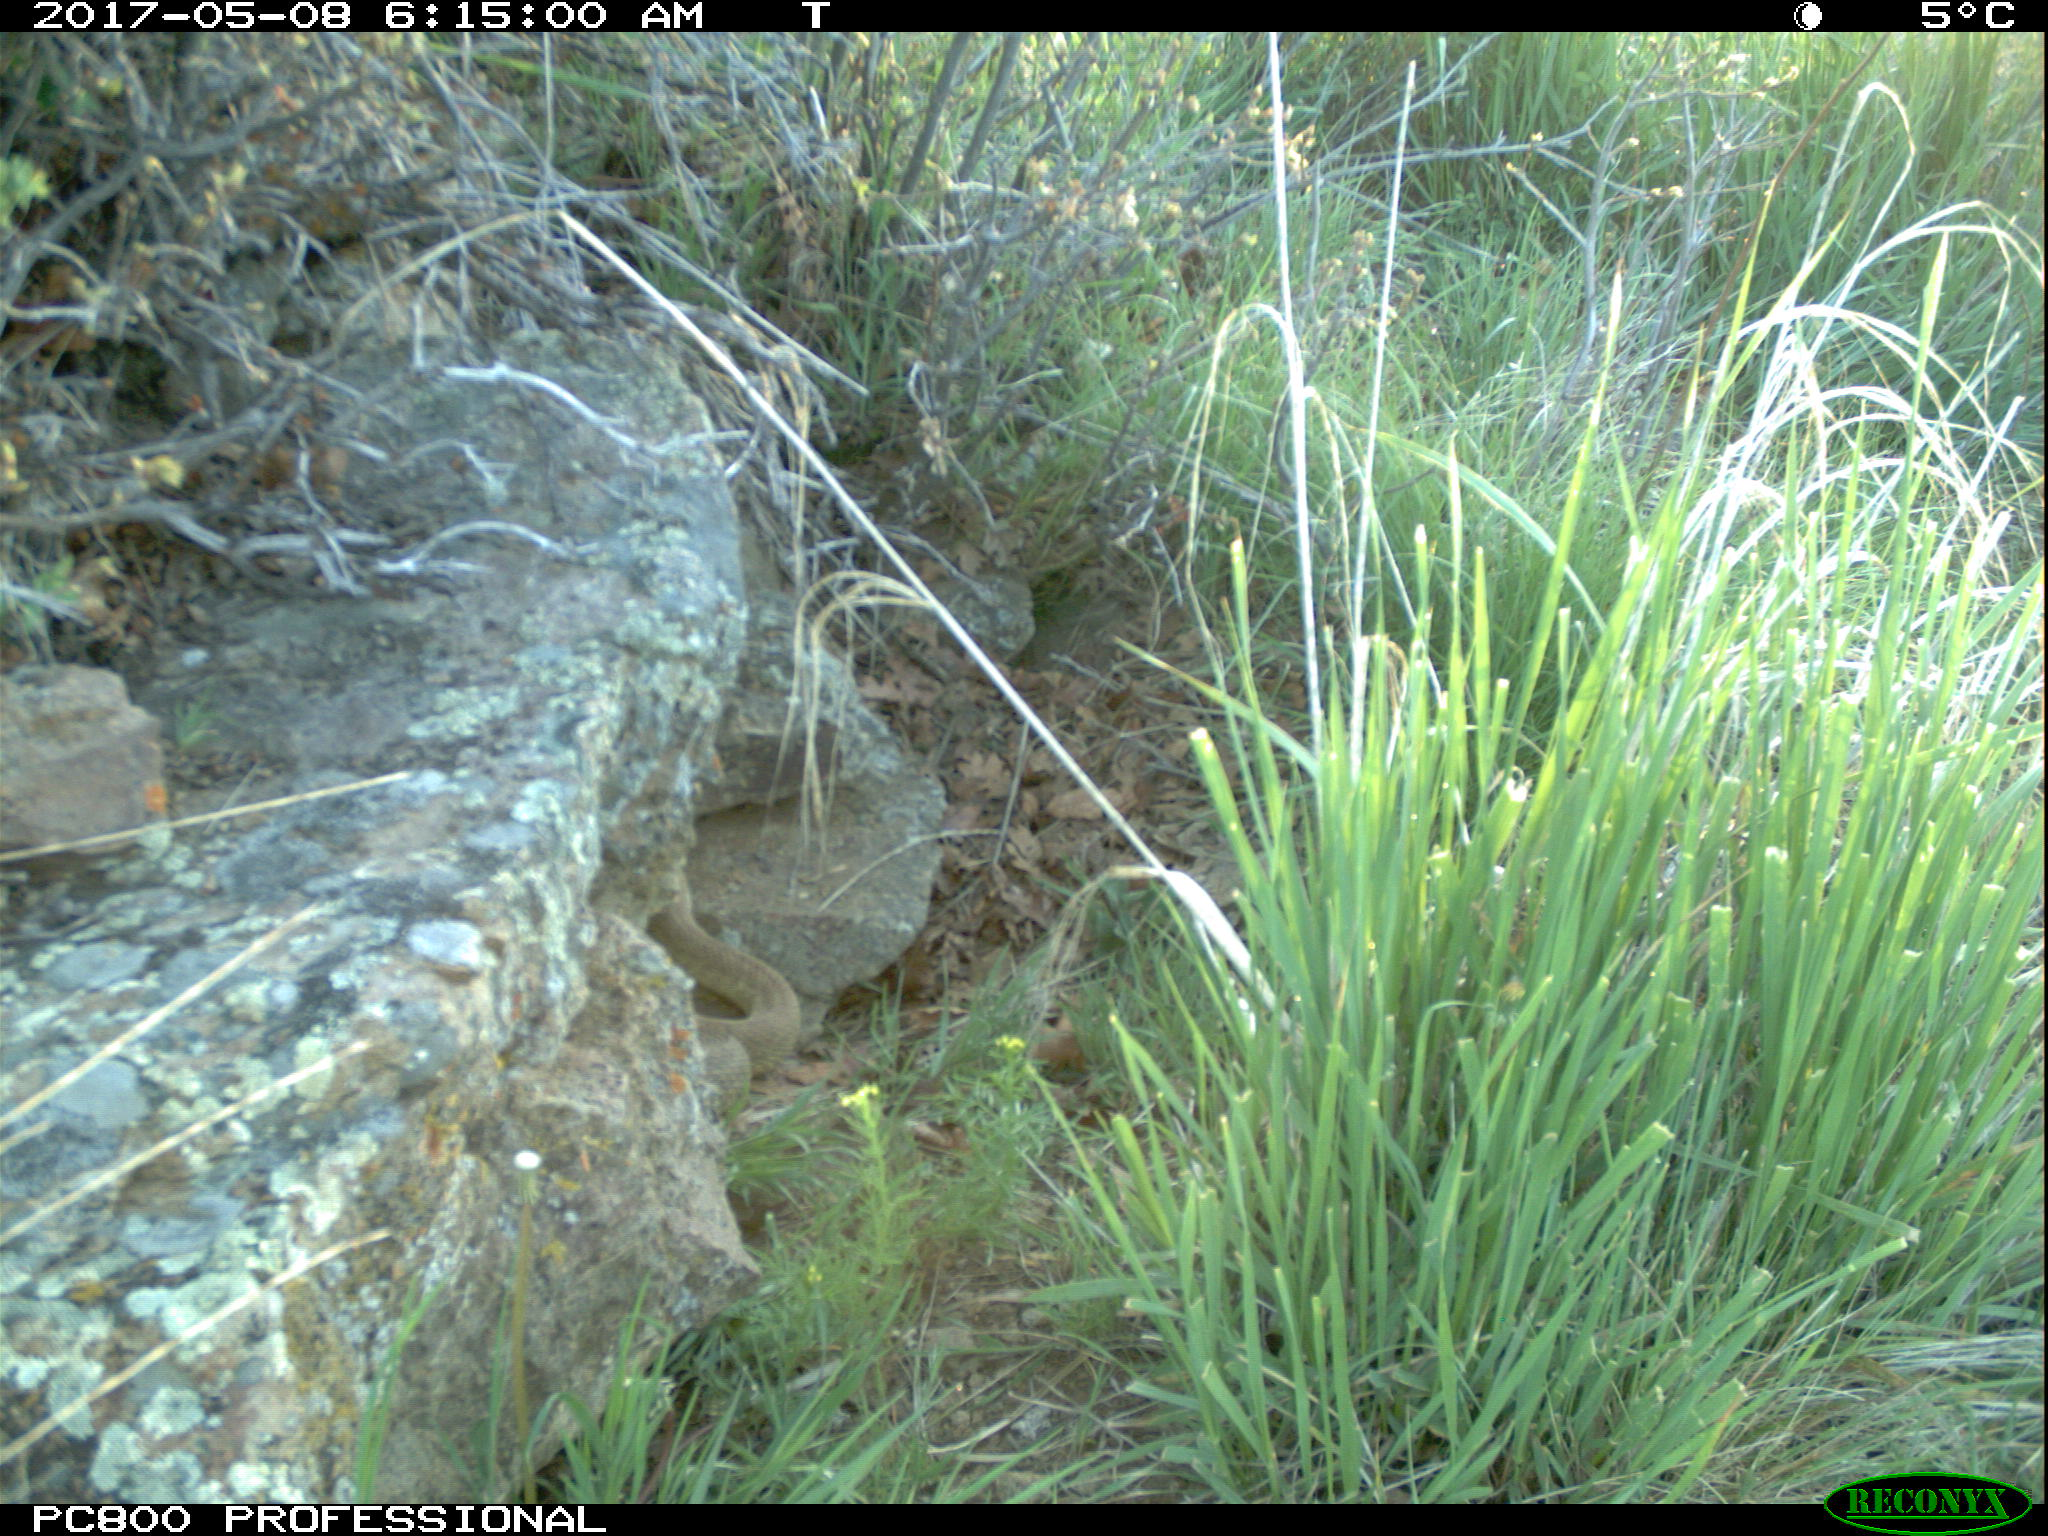snake: (651, 862, 805, 1081)
